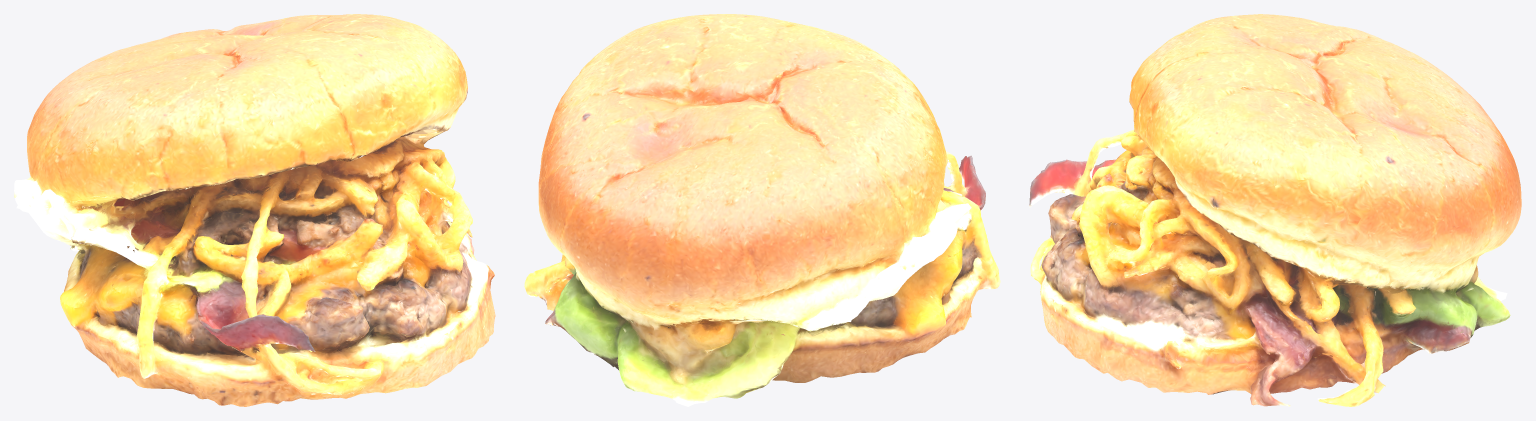
Rendered from burger_2.glb.
3 views of the same model, side by side, from view 1: azimuth 30°, elevation 25°; view 2: azimuth 150°, elevation 25°; view 3: azimuth 270°, elevation 25° (orthographic). The views are drawn at different scales.
Visible parts, largest first — view 1: Object_2; view 2: Object_2; view 3: Object_2.
Part boxes in pixels (x1,y1,x2,y2): Object_2: [14, 14, 495, 406]; Object_2: [524, 14, 1000, 406]; Object_2: [1029, 14, 1521, 406].
Bounding box in the file's own units: 30.02 × 18.57 × 31.17.
Materials: 1 (1 with a texture image).
